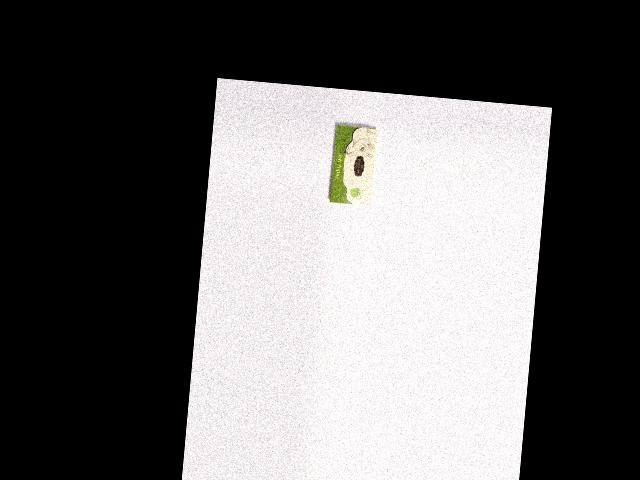chocolate: (328, 123, 378, 206)
